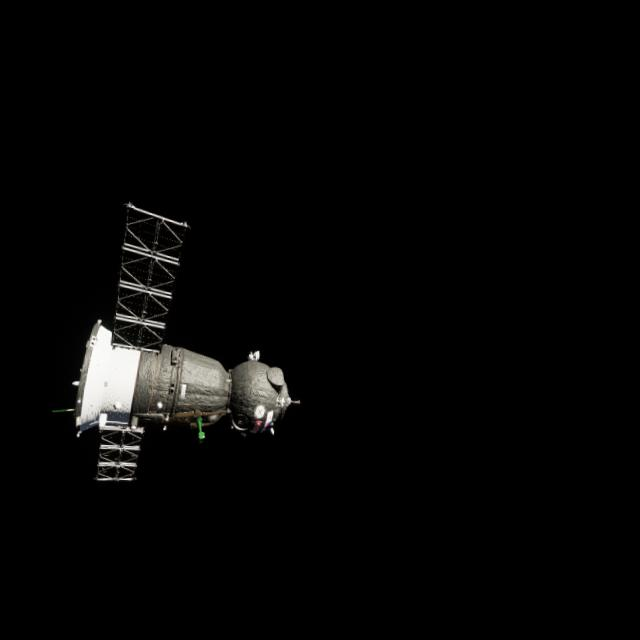Satellites revolving around earth: (48, 195, 312, 496)
